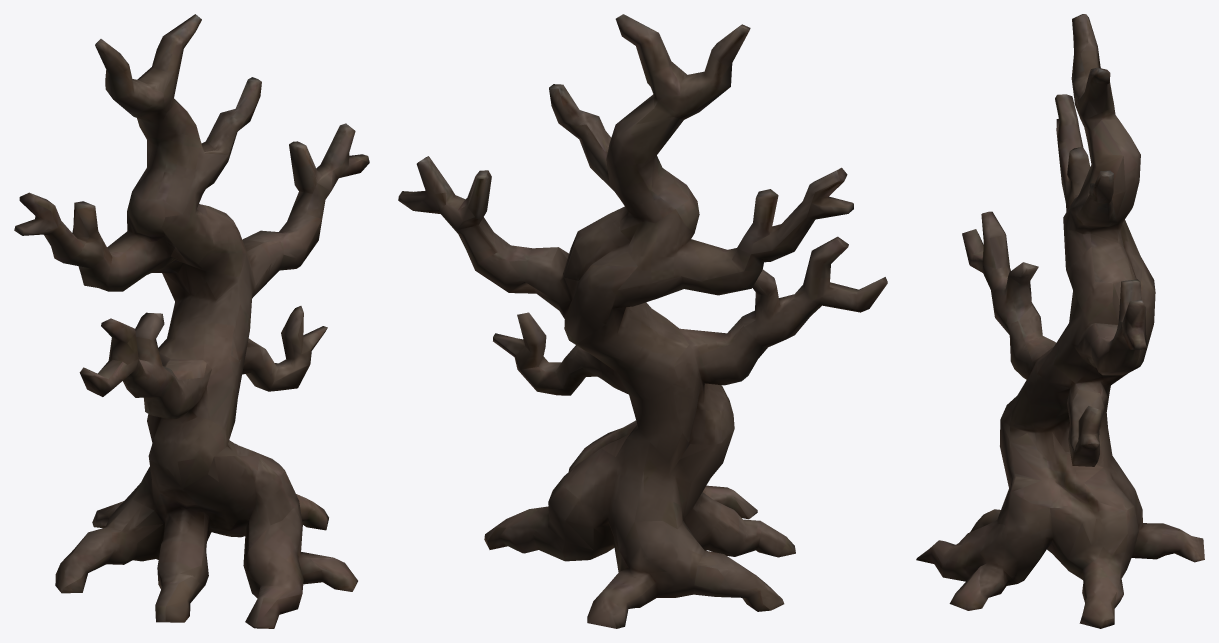
File: bare_tree.glb
3 renders of one model, left to right at view 1: azimuth 30°, elevation 25°; view 2: azimuth 150°, elevation 25°; view 3: azimuth 270°, elevation 25°, orthographic. The views are drawn at different scales.
Parts seen in each view (by area): view 1: tripo_node_e41a998a-d2f8-4bfc-9279-f6f3b0ff53f2; view 2: tripo_node_e41a998a-d2f8-4bfc-9279-f6f3b0ff53f2; view 3: tripo_node_e41a998a-d2f8-4bfc-9279-f6f3b0ff53f2.
Part boxes in pixels (box(x1,y1,x2,y2)): tripo_node_e41a998a-d2f8-4bfc-9279-f6f3b0ff53f2: box(14, 14, 369, 628); tripo_node_e41a998a-d2f8-4bfc-9279-f6f3b0ff53f2: box(398, 14, 887, 628); tripo_node_e41a998a-d2f8-4bfc-9279-f6f3b0ff53f2: box(916, 14, 1204, 628).
Bounding box in the file's own units: 0.7371 × 0.9822 × 0.5053.
Materials: 1 (1 with a texture image).
